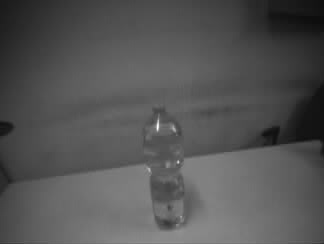Bottle: (141, 103, 189, 231)
